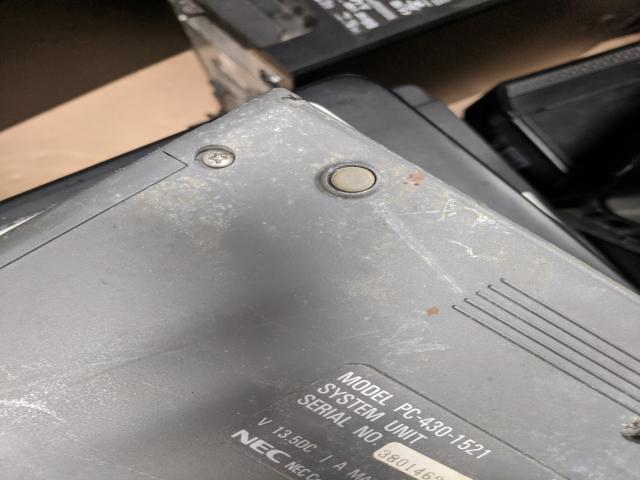CRS: (202, 148, 238, 169), (619, 414, 640, 440)
